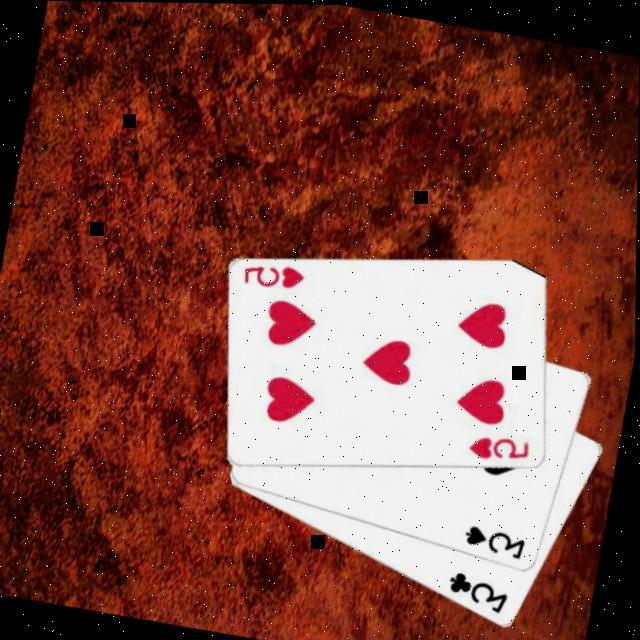3C: (441, 566, 514, 618)
3S: (460, 521, 530, 563)
5H: (464, 427, 533, 469), (238, 255, 308, 296)
